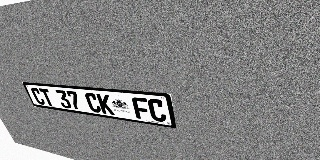plate: (22, 82, 176, 128)
